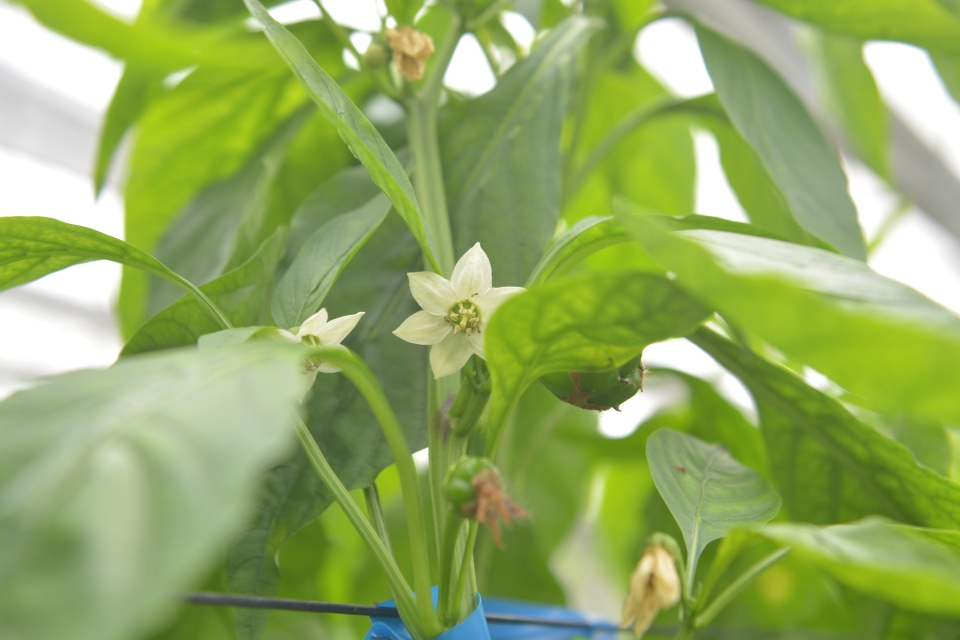flower: (389, 240, 528, 382), (279, 305, 368, 405)
immature: (437, 450, 532, 552), (535, 345, 650, 413)
